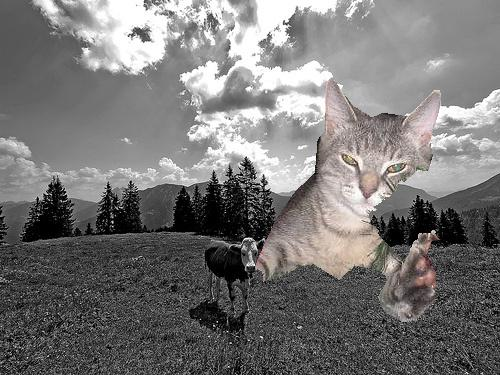tampered: (256, 78, 441, 322)
